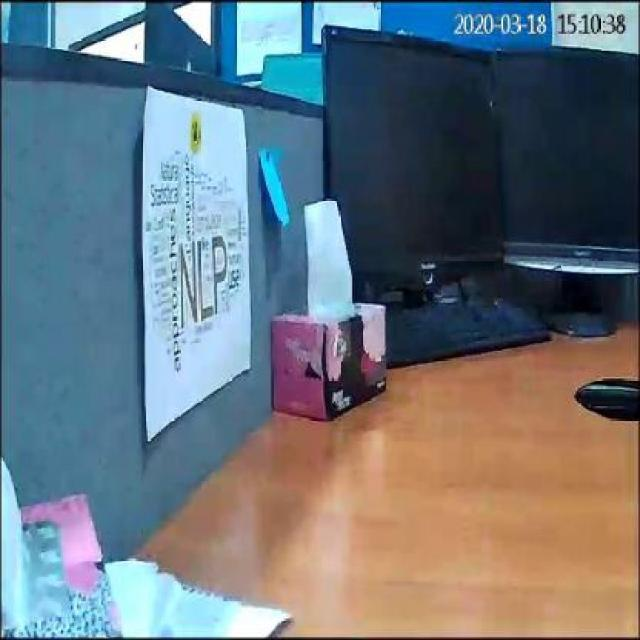spill: (573, 374, 635, 412)
